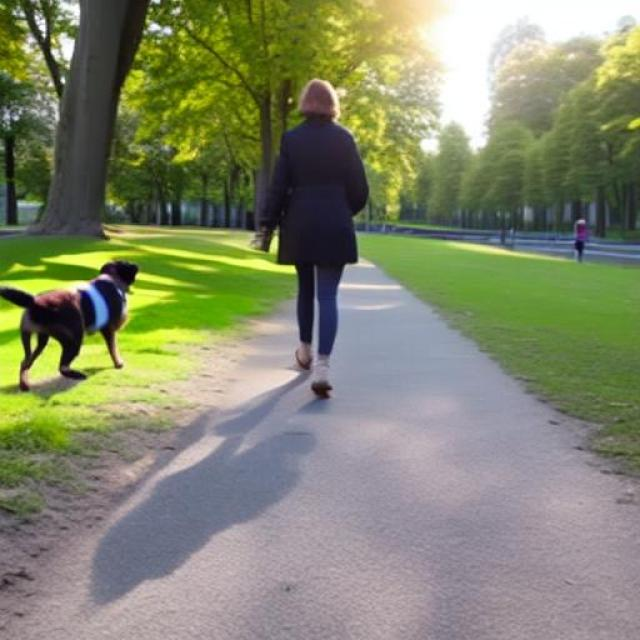Unleashed_Dog: (0, 210, 328, 394)
